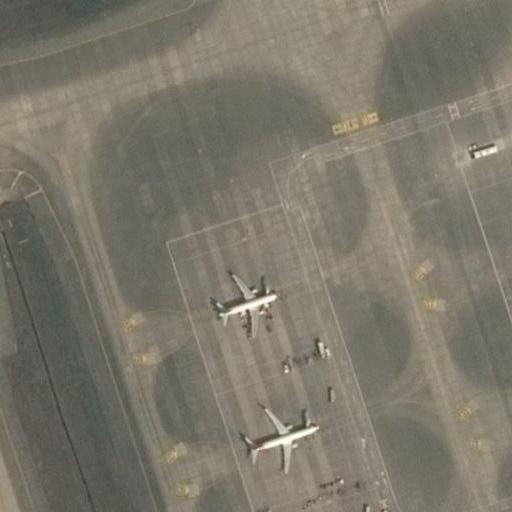Aircraft: (203, 269, 285, 341), (240, 407, 319, 466)
